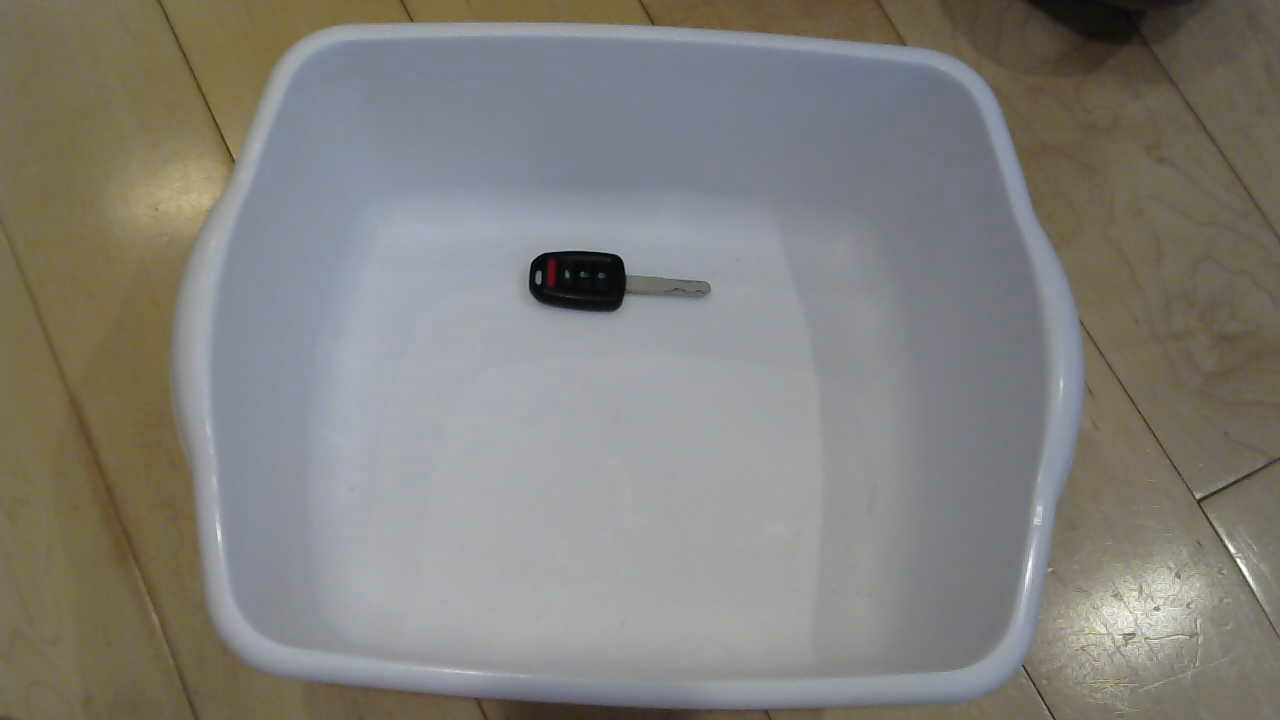key: (532, 235, 758, 331)
